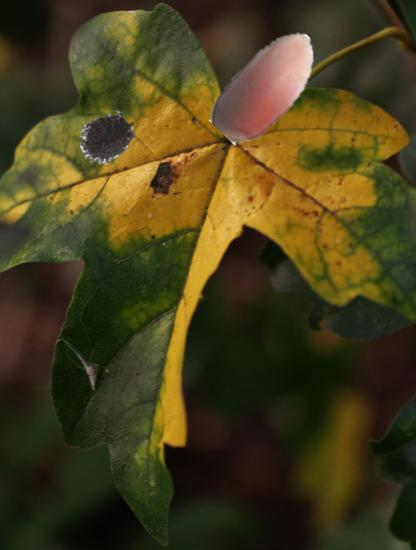Hazelnut: (202, 22, 333, 153)
Rambutan: (79, 108, 139, 168)
